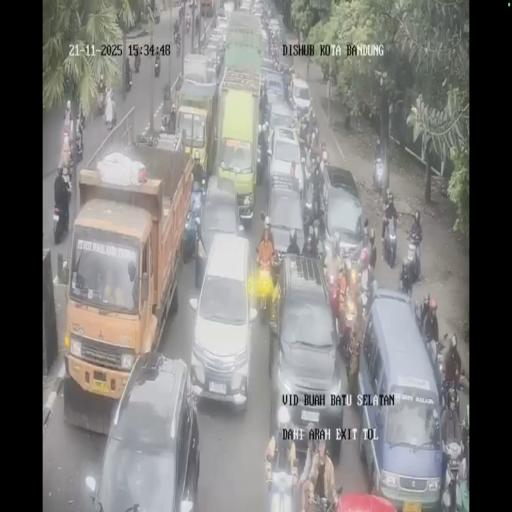3: (174, 62, 218, 178), (221, 10, 263, 81), (199, 0, 214, 18)
car: (356, 290, 444, 506), (88, 354, 200, 509), (269, 256, 343, 454), (197, 171, 241, 271), (322, 169, 367, 265), (264, 186, 306, 268), (266, 122, 305, 199), (261, 68, 288, 111), (290, 75, 312, 118), (204, 41, 223, 77), (268, 19, 282, 46), (259, 26, 269, 58), (251, 0, 265, 16), (216, 4, 228, 22), (239, 0, 253, 14)
truck: (438, 432, 467, 510), (253, 255, 277, 322), (399, 240, 420, 290), (381, 217, 398, 267), (302, 181, 318, 229), (433, 344, 447, 392), (53, 198, 67, 242), (372, 152, 386, 191), (297, 131, 309, 168), (74, 128, 84, 161), (96, 86, 106, 112), (105, 108, 115, 131), (78, 104, 86, 131), (174, 33, 182, 57), (125, 65, 132, 89), (154, 53, 161, 76), (162, 82, 170, 101), (147, 38, 154, 57), (134, 50, 140, 72), (184, 13, 190, 33), (174, 18, 180, 38), (178, 3, 184, 21), (195, 14, 199, 33)
